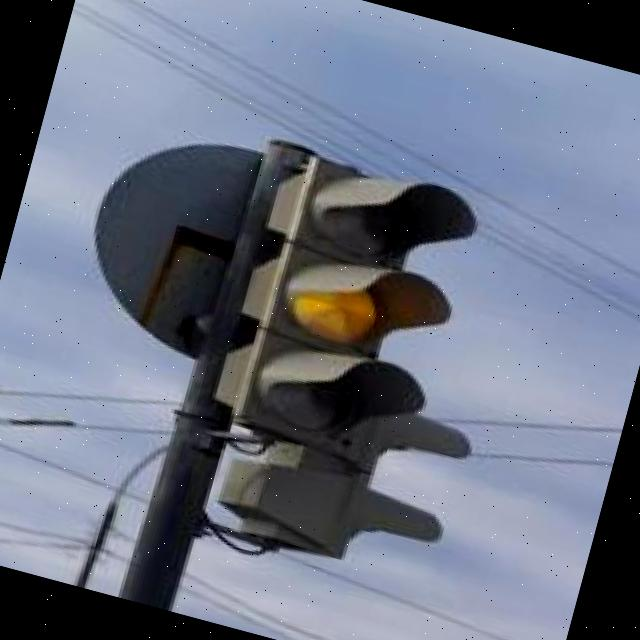yellow_light: (245, 156, 453, 450)
